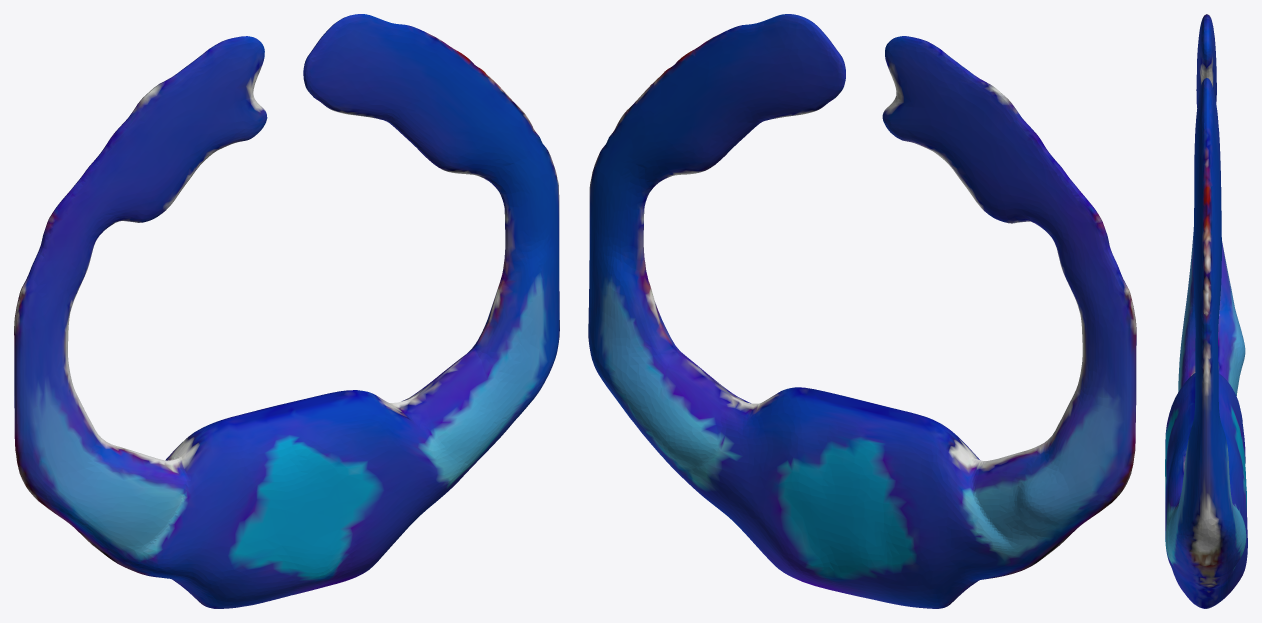
File: girdle_con.glb
3 views of the same model, side by side, from view 1: azimuth 30°, elevation 25°; view 2: azimuth 150°, elevation 25°; view 3: azimuth 270°, elevation 25° (orthographic). The views are drawn at different scales.
Parts seen in each view (by area): view 1: geometry_0; view 2: geometry_0; view 3: geometry_0.
Boxes of the visible parts, left/top/right/bottom form: geometry_0: left=14, top=14, right=559, bottom=608; geometry_0: left=588, top=14, right=1136, bottom=608; geometry_0: left=1165, top=14, right=1247, bottom=608.
Bounding box in the file's own units: 0.6557 × 0.6562 × 0.0922.
